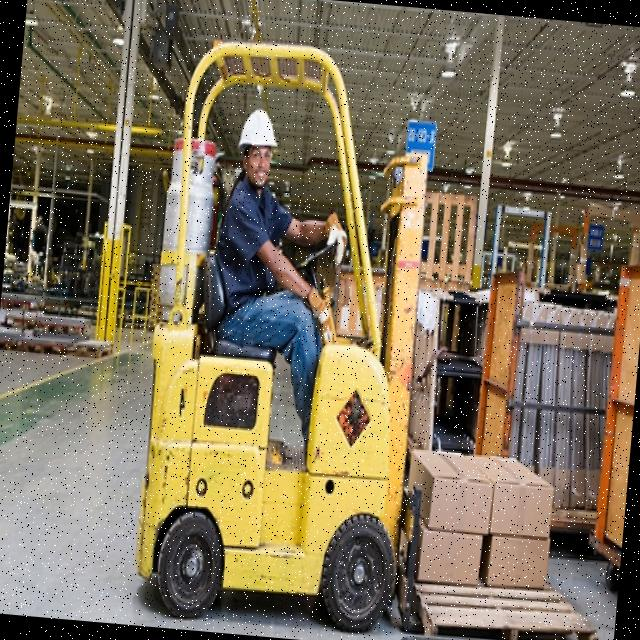Person: (195, 109, 358, 472)
